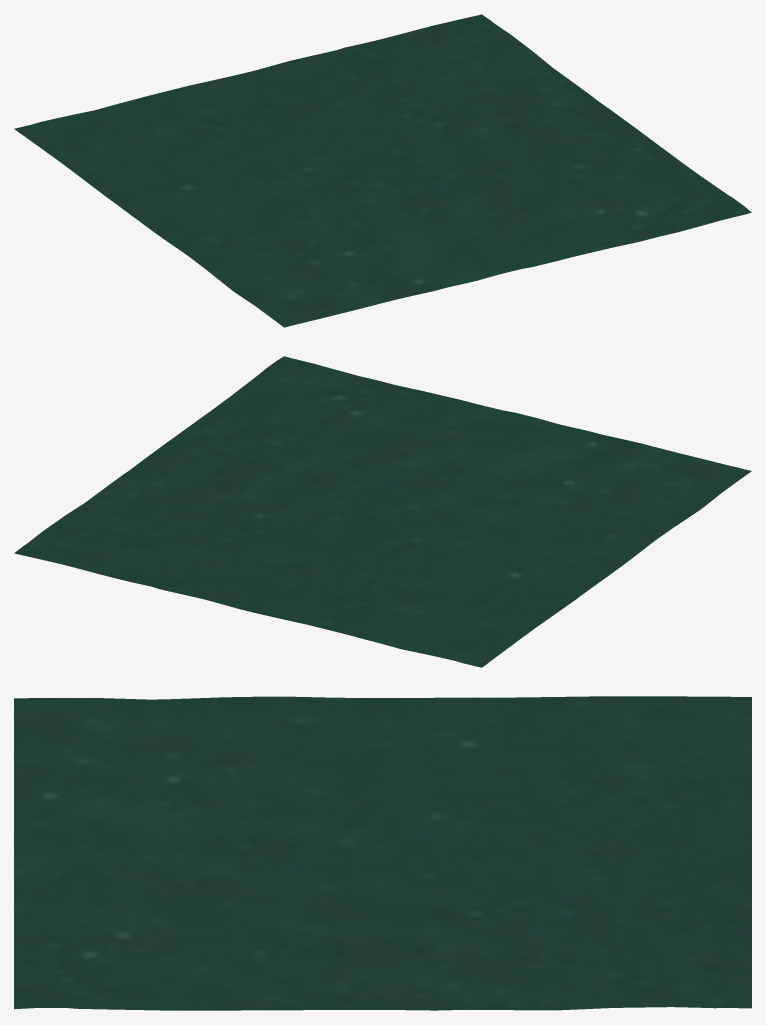
The picture shows the model from 3 angles, top to bottom: view 1: azimuth 30°, elevation 25°; view 2: azimuth 150°, elevation 25°; view 3: azimuth 270°, elevation 25°; orthographic projection. The views are drawn at different scales.
Bounding box in the file's own units: 52.22 × 0.4126 × 52.22.
3 materials, 3 textured.
